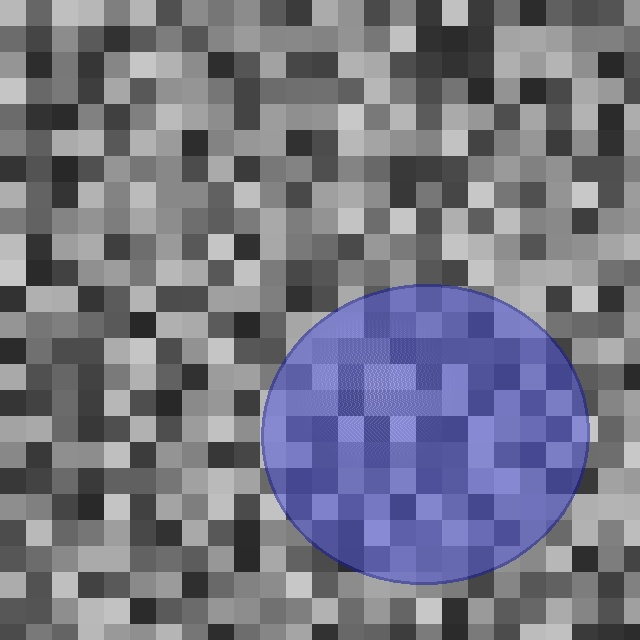lens: (262, 285, 588, 583)
